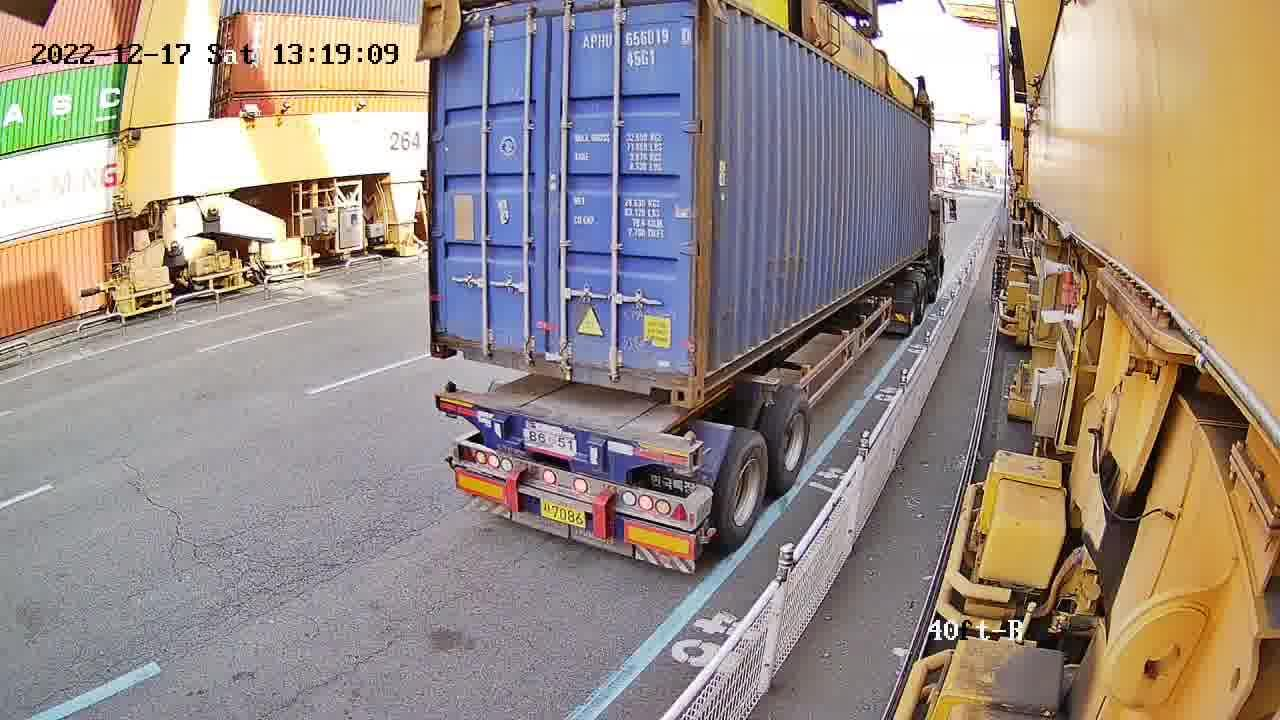Chassis: (437, 387, 709, 478)
Cone: (677, 431, 704, 475), (437, 379, 458, 414)
Hole_L: (690, 336, 736, 408), (430, 314, 478, 360)
Hole_R: (640, 352, 697, 410)
Tire: (719, 437, 770, 545), (771, 393, 812, 487)
